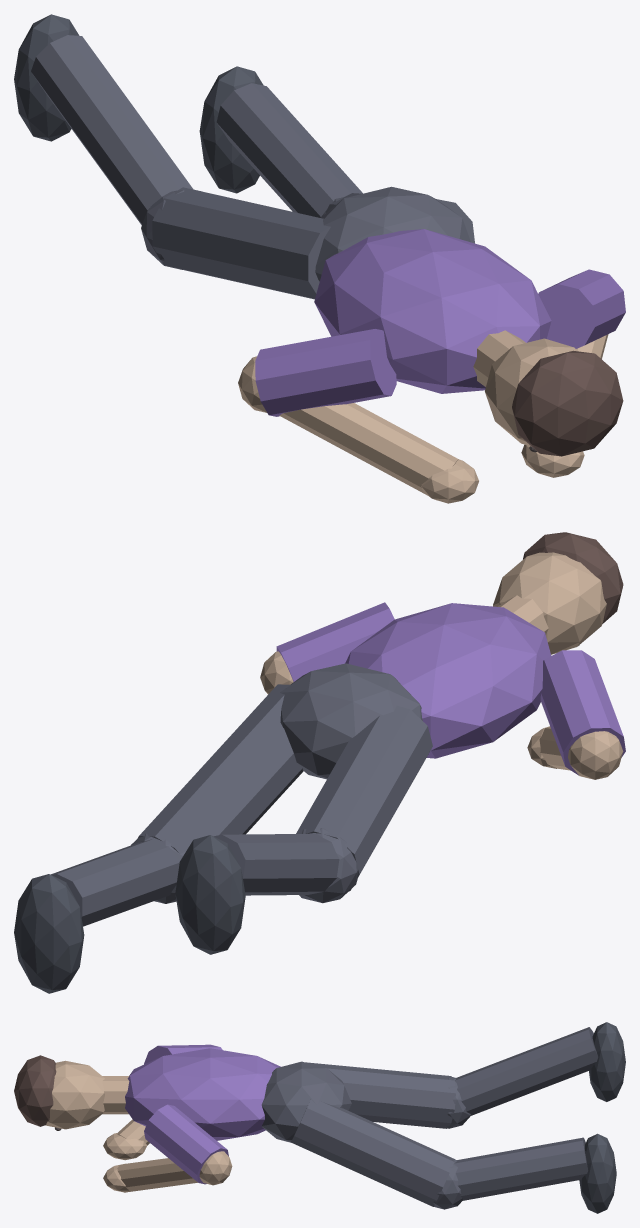
The picture shows the model from 3 angles, top to bottom: view 1: azimuth 30°, elevation 25°; view 2: azimuth 150°, elevation 25°; view 3: azimuth 270°, elevation 25°; orthographic projection. The views are drawn at different scales.
Visible parts, largest first — view 1: world; view 2: world; view 3: world.
Boxes of the visible parts, x1,y1,x2,y2 form: world: [14, 14, 625, 503]; world: [14, 532, 625, 993]; world: [14, 1022, 625, 1213].
Bounding box in the file's own units: 0.93 × 0.5125 × 2.07.
